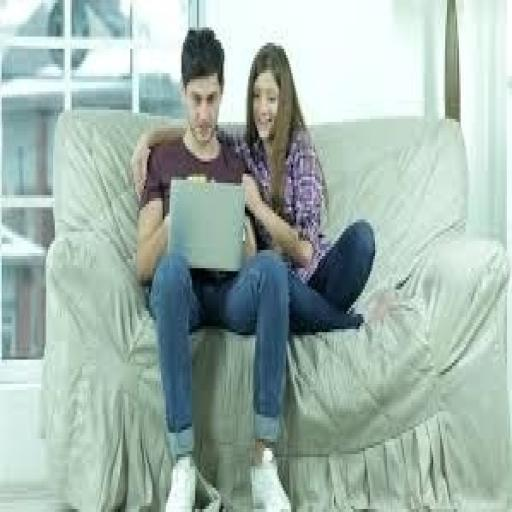sitting: (126, 21, 376, 506)
